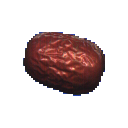gd: (9, 17, 115, 113)
